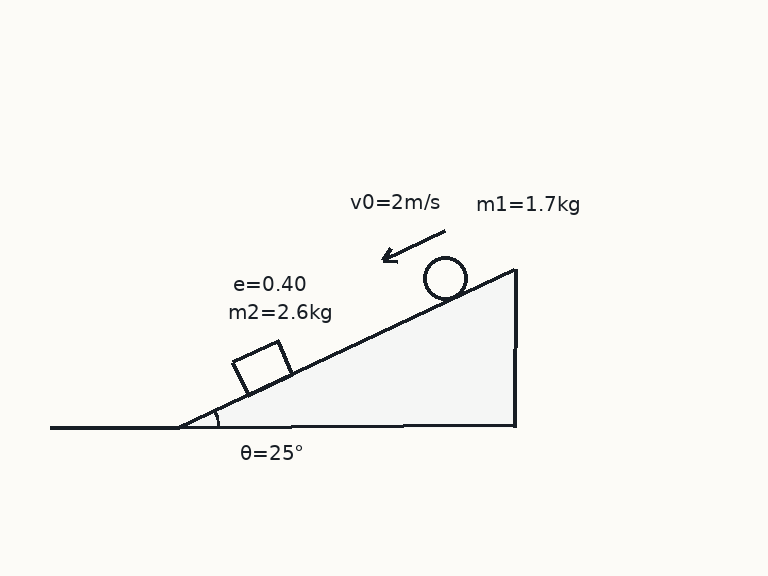ball: (421, 254, 469, 302)
block: (231, 339, 294, 396)
ramp: (176, 268, 516, 429)
